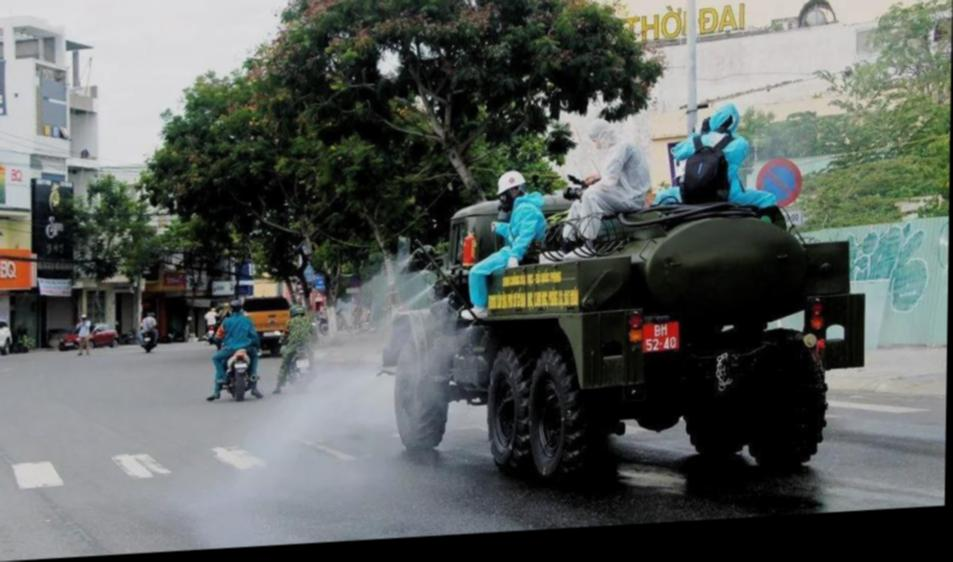License_Plate: (637, 316, 682, 356)
